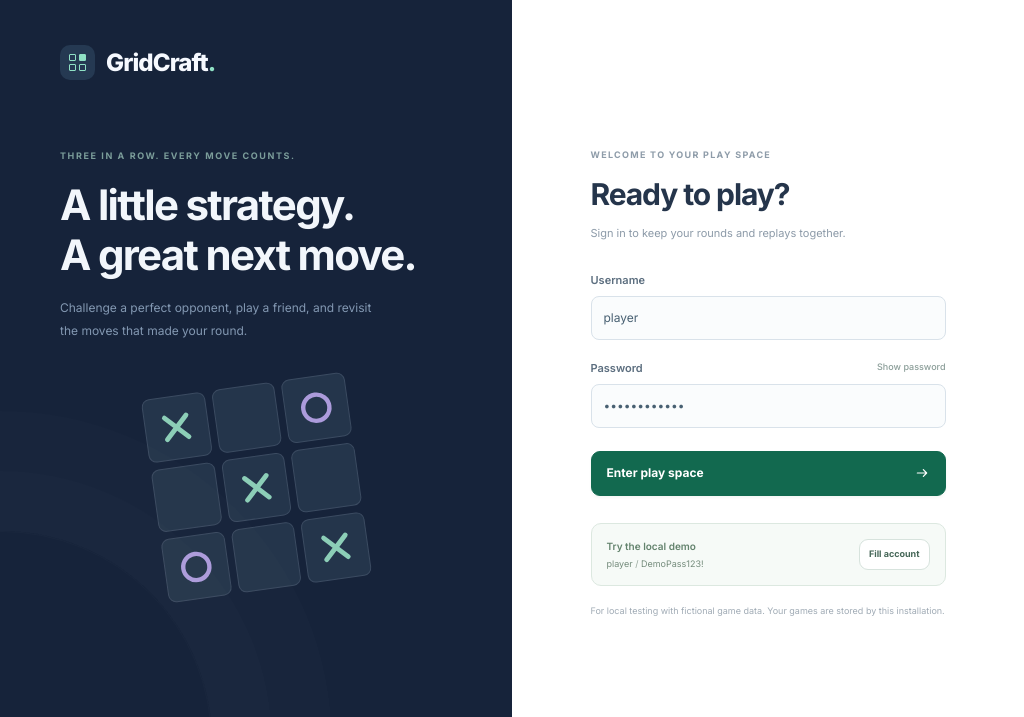
Test: sign-in uses the bootstrap CSRF token and opens the saved workspace
This screenshot has width=1024, height=717.
Expected: the heading "Ready to play?" is shown, [590, 176, 789, 212]
Click the button "Fill account" at (894, 554), box [859, 539, 930, 570]
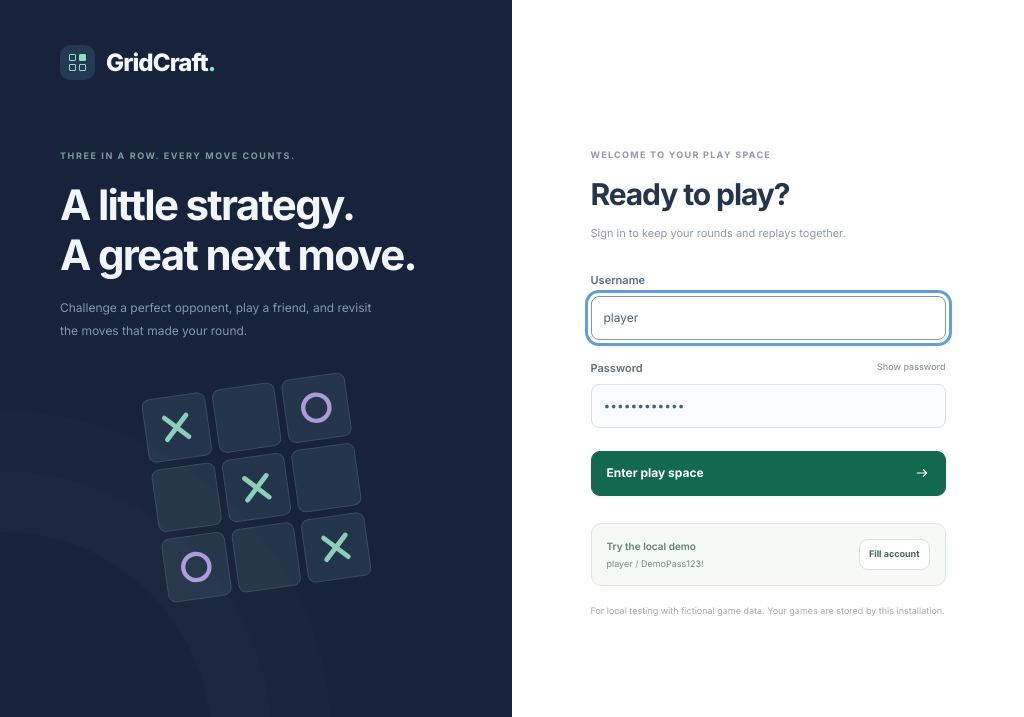
Expected: the field labelled "Username" holds "player", [590, 296, 946, 340]
Expected: the password field labelled "Password" holds "DemoPass123!", [590, 384, 946, 428]
Click the button "Enter play space" at (655, 473), box [590, 451, 946, 496]
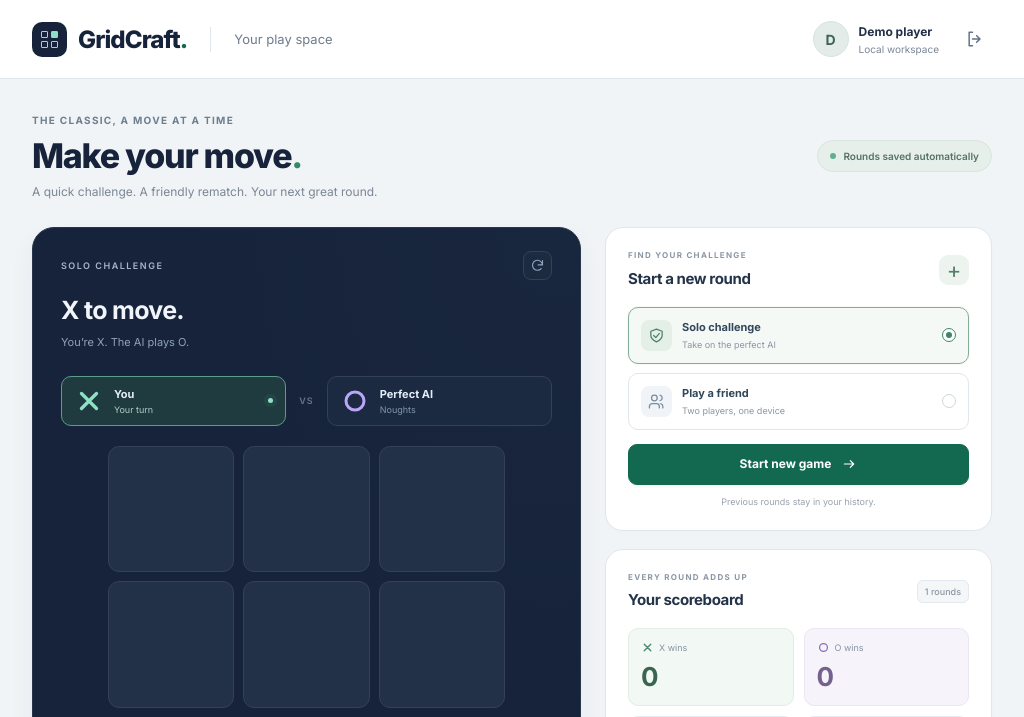
Now the heading "Make your move." is shown, box [32, 135, 302, 176]
